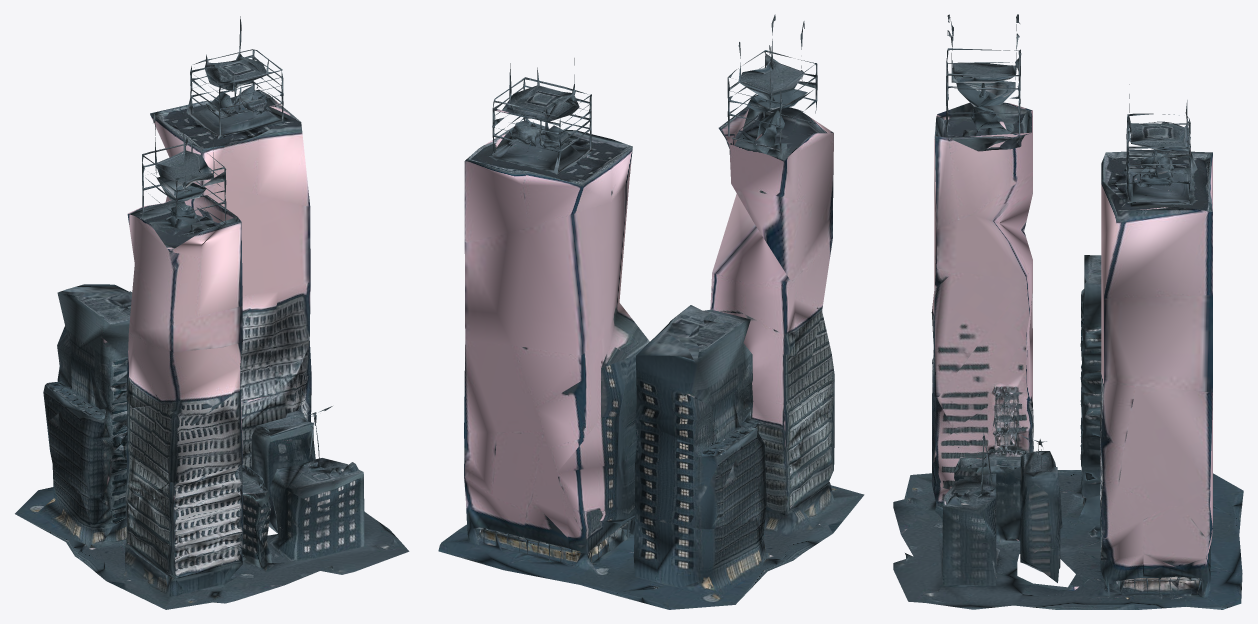
File: tower_d.glb
The picture shows the model from 3 angles, left to right: view 1: azimuth 30°, elevation 25°; view 2: azimuth 150°, elevation 25°; view 3: azimuth 270°, elevation 25°; orthographic projection. The views are drawn at different scales.
Bounding box in the file's own units: 1.17 × 1.9 × 1.24.
Materials: 1 (1 with a texture image).
